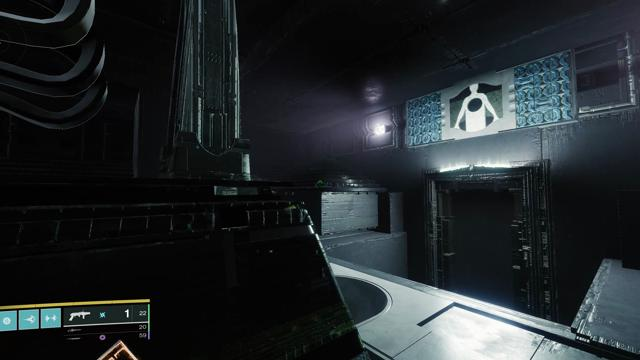grief: (449, 83, 503, 132)
